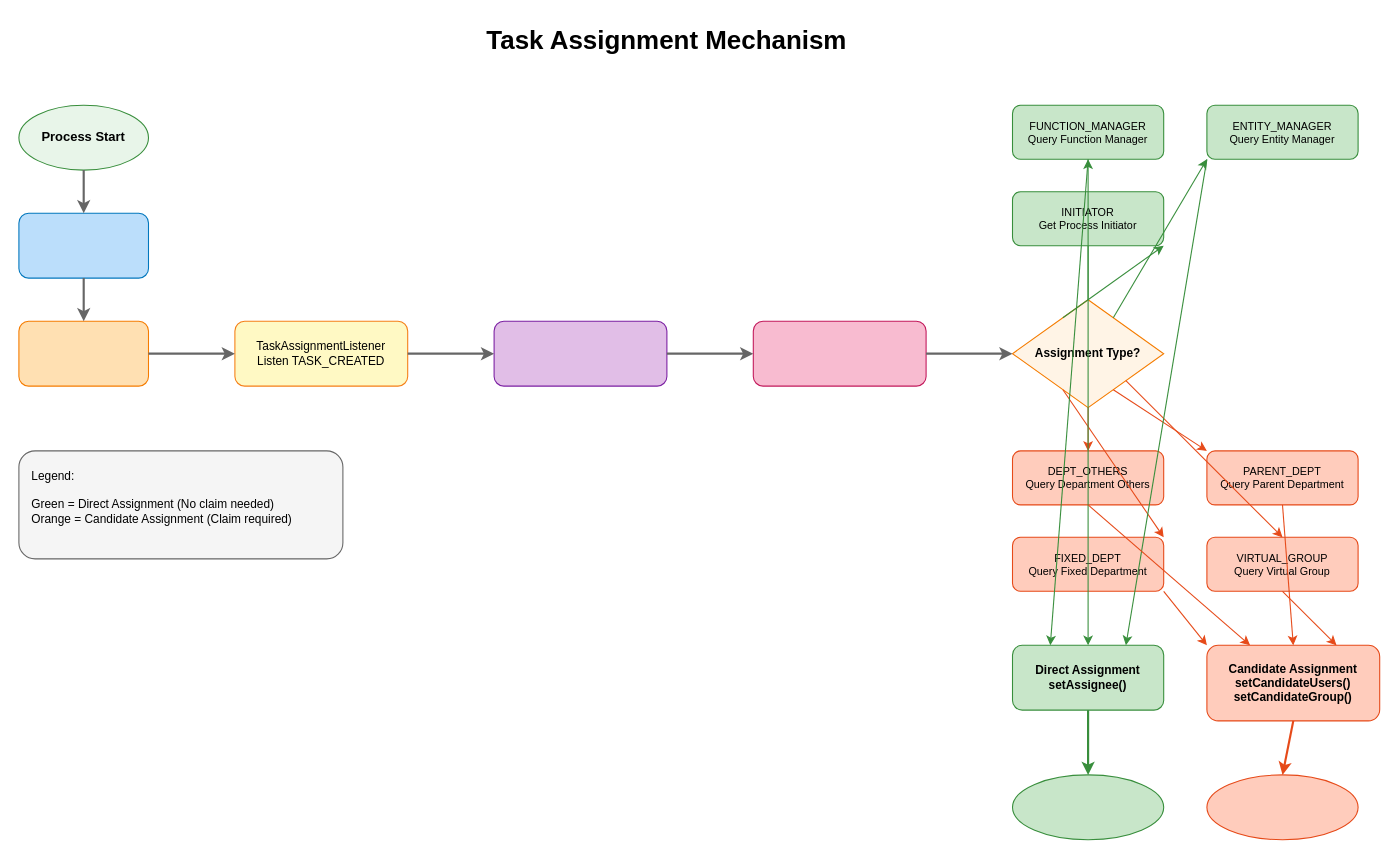
Image size: 1399x859. Some labels were removed from this diagram. Here are the shapes that lost their labels. From the top down, the box of each, then its label:
(18, 212, 148, 278): Set initiator Variable
(18, 320, 148, 386): Task Created Event
(493, 320, 667, 386): Read BPMN Properties assigneeType assigneeValue
(752, 320, 926, 386): TaskAssigneeResolver Resolve Assignee
(1011, 774, 1164, 840): Task Ready Direct Processing
(1206, 774, 1358, 840): Task Pending Need Claim
